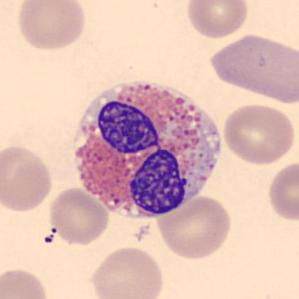Eosinophil: (63, 68, 228, 228)
RBC: (206, 32, 297, 105), (154, 194, 234, 261), (220, 100, 297, 166), (87, 244, 166, 299), (0, 142, 55, 215), (14, 0, 88, 53), (46, 186, 111, 246), (184, 0, 251, 40), (265, 159, 298, 223), (0, 265, 50, 299)
